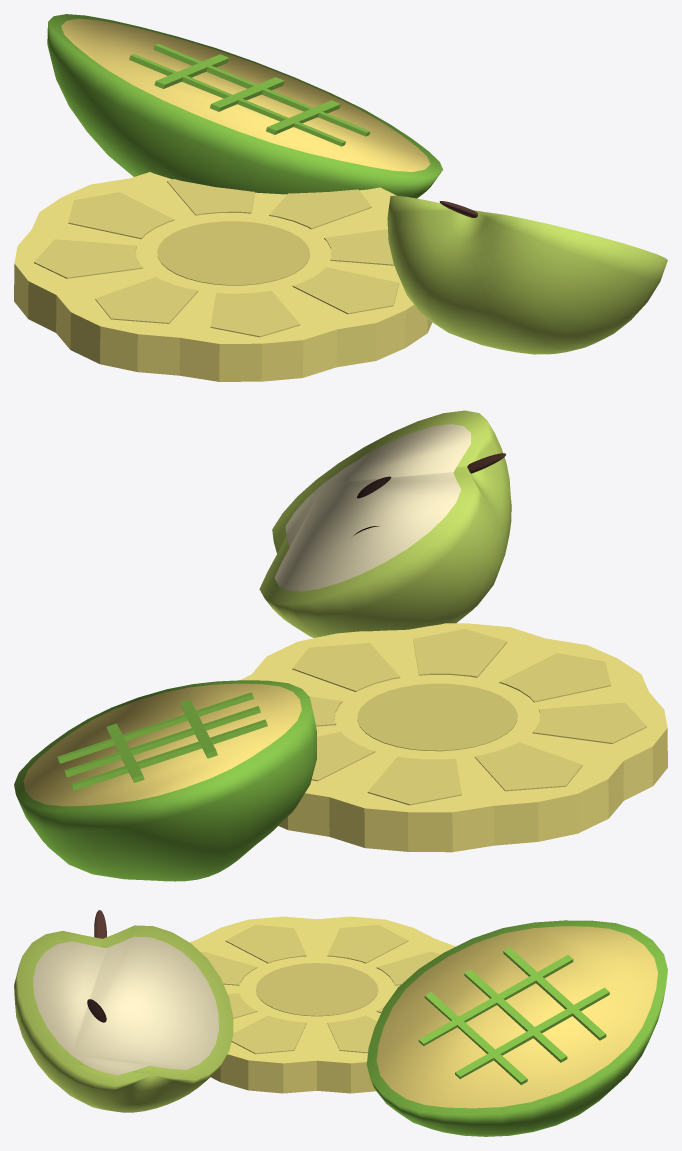
The model's file is precutfruits1.fbx.
The picture shows the model from 3 angles, top to bottom: view 1: azimuth 30°, elevation 25°; view 2: azimuth 150°, elevation 25°; view 3: azimuth 270°, elevation 25°; orthographic projection. The views are drawn at different scales.
Visible parts, largest first — view 1: Cylinder.006, Sphere.059, Sphere.094, Cylinder.007, Sphere.095, Cylinder.008, Cube.003; view 2: Cylinder.006, Sphere.094, Sphere.059, Cylinder.007, Sphere.060, Sphere.095, Cylinder.008, Cube.003; view 3: Sphere.095, Sphere.060, Cylinder.006, Sphere.059, Sphere.094, Cylinder.007, Cube.003, Cylinder.008.
Boxes of the visible parts, x1,y1,x2,y2 form: Cylinder.006: [14, 172, 432, 381]; Sphere.059: [387, 195, 667, 354]; Sphere.094: [47, 14, 442, 198]; Cylinder.007: [34, 179, 399, 337]; Sphere.095: [61, 18, 430, 171]; Cylinder.008: [157, 221, 309, 285]; Cube.003: [129, 43, 370, 146]; Cylinder.006: [240, 623, 667, 852]; Sphere.094: [14, 680, 316, 881]; Sphere.059: [259, 410, 511, 637]; Cylinder.007: [292, 629, 646, 805]; Sphere.060: [274, 424, 470, 591]; Sphere.095: [23, 683, 301, 806]; Cylinder.008: [357, 683, 517, 751]; Cube.003: [57, 692, 267, 790]; Sphere.095: [376, 926, 657, 1108]; Sphere.060: [33, 936, 218, 1075]; Cylinder.006: [190, 916, 455, 1093]; Sphere.059: [14, 925, 233, 1112]; Sphere.094: [366, 920, 667, 1136]; Cylinder.007: [201, 924, 440, 1054]; Cube.003: [418, 947, 609, 1084]; Cylinder.008: [255, 963, 378, 1016].
Size of the model in its own units: 210 by 94.39 by 316.
